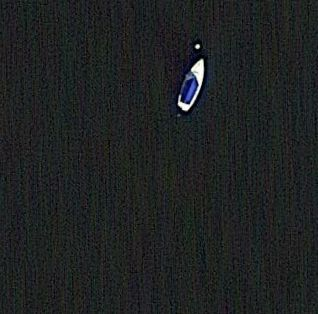boat: (176, 57, 206, 112)
